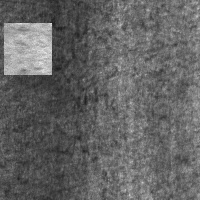crazing: (46, 9, 116, 123)
rolled-in_scale: (4, 23, 52, 75)
